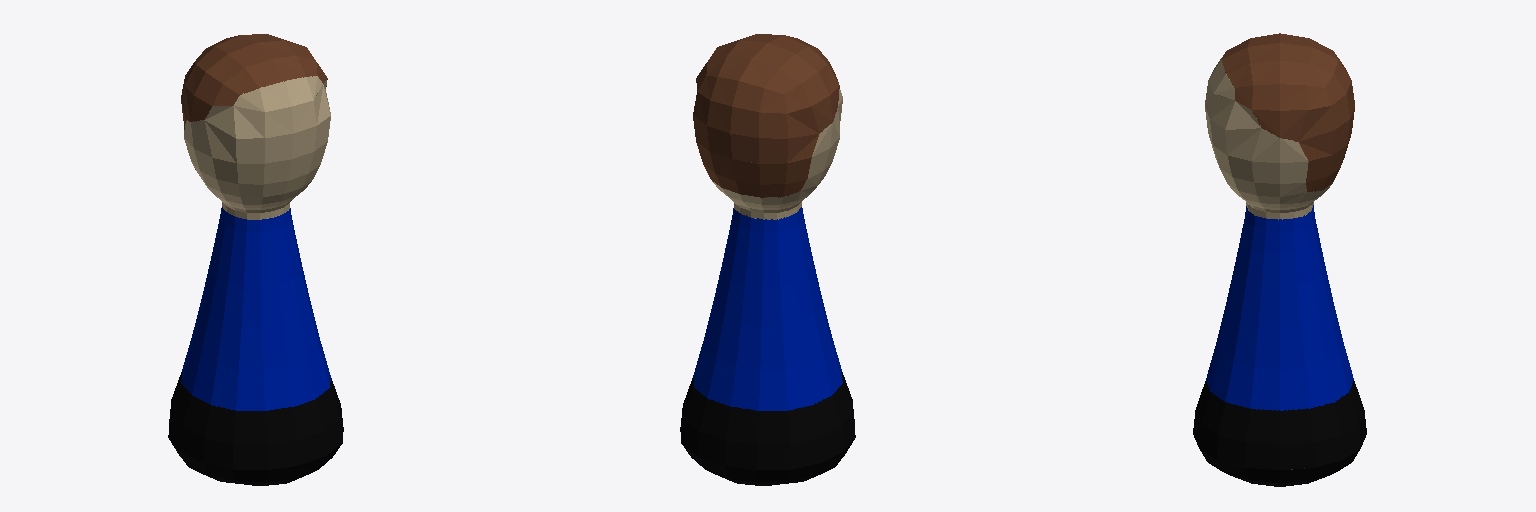
The picture shows the model from 3 angles: view 1: azimuth 30°, elevation 25°; view 2: azimuth 150°, elevation 25°; view 3: azimuth 270°, elevation 25°; orthographic projection.
Parts seen in each view (by area): view 1: Cube; view 2: Cube; view 3: Cube.
Boxes of the visible parts, x1,y1,x2,y2 form: Cube: [168, 34, 343, 485]; Cube: [680, 34, 855, 485]; Cube: [1193, 33, 1366, 486].
Bounding box in the file's own units: 0.7148 × 1.93 × 0.7148.
Materials: 4 (1 with a texture image).